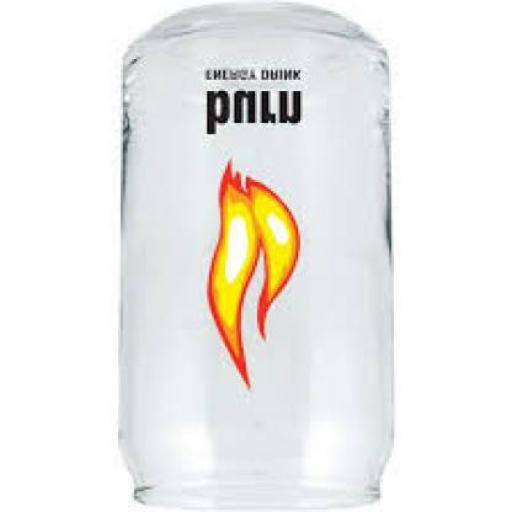metal: (116, 8, 387, 510)
